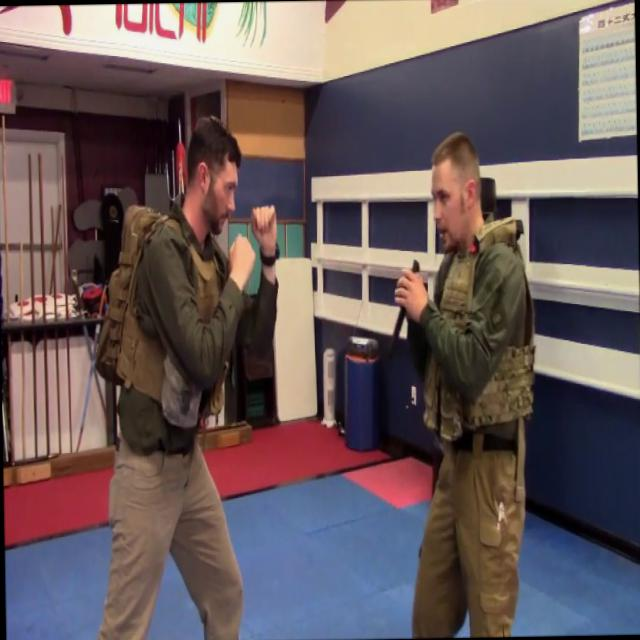knife: (374, 250, 428, 370)
